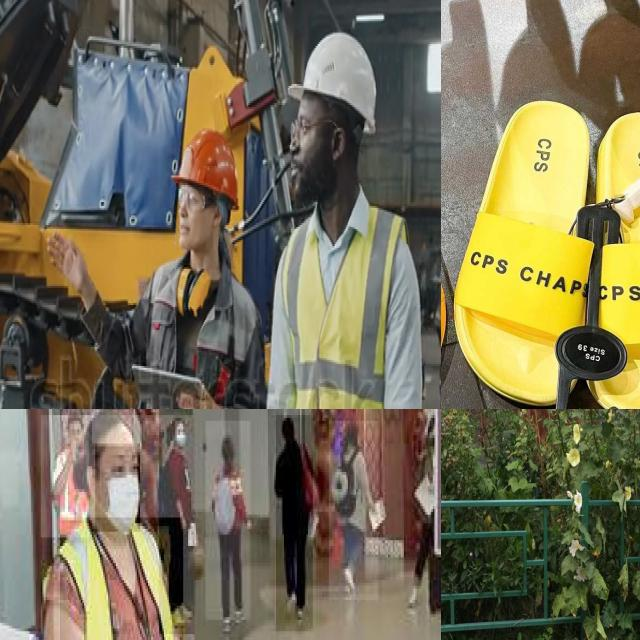Ear-protection: (172, 260, 212, 324)
Sandals: (443, 81, 640, 409)
face_mask: (95, 444, 142, 534), (175, 421, 185, 444)
glasses: (286, 112, 334, 150), (176, 184, 220, 218)
head_helmet: (290, 27, 378, 140), (173, 131, 243, 211)
head_nohelmet: (92, 409, 137, 446), (216, 435, 238, 472), (68, 409, 84, 440), (284, 418, 295, 449)
person: (270, 22, 425, 409), (130, 129, 269, 409), (53, 415, 196, 640), (206, 421, 252, 623), (329, 421, 380, 603), (276, 415, 314, 634), (159, 409, 194, 634), (41, 415, 90, 540)
shoes: (340, 560, 358, 600), (404, 578, 423, 612), (231, 599, 247, 627), (292, 601, 306, 633), (219, 609, 234, 637), (282, 593, 296, 618)
vest: (278, 204, 402, 409), (60, 517, 185, 640)
